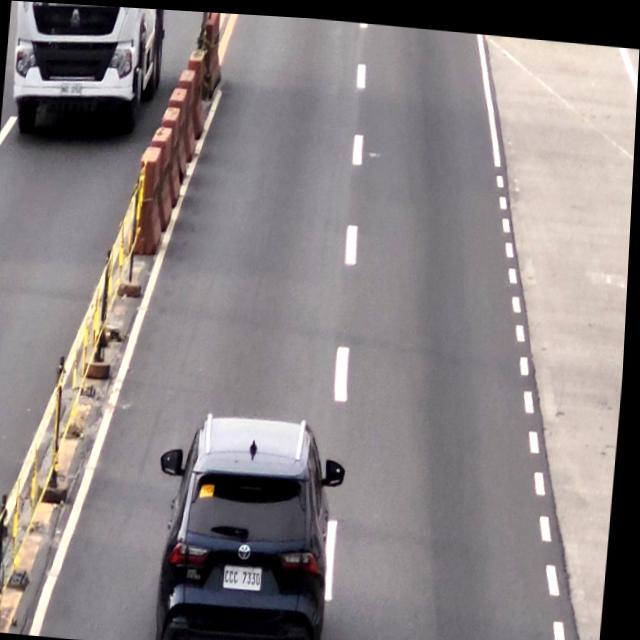Car: (161, 403, 345, 640)
License-Plate: (227, 558, 270, 592)
